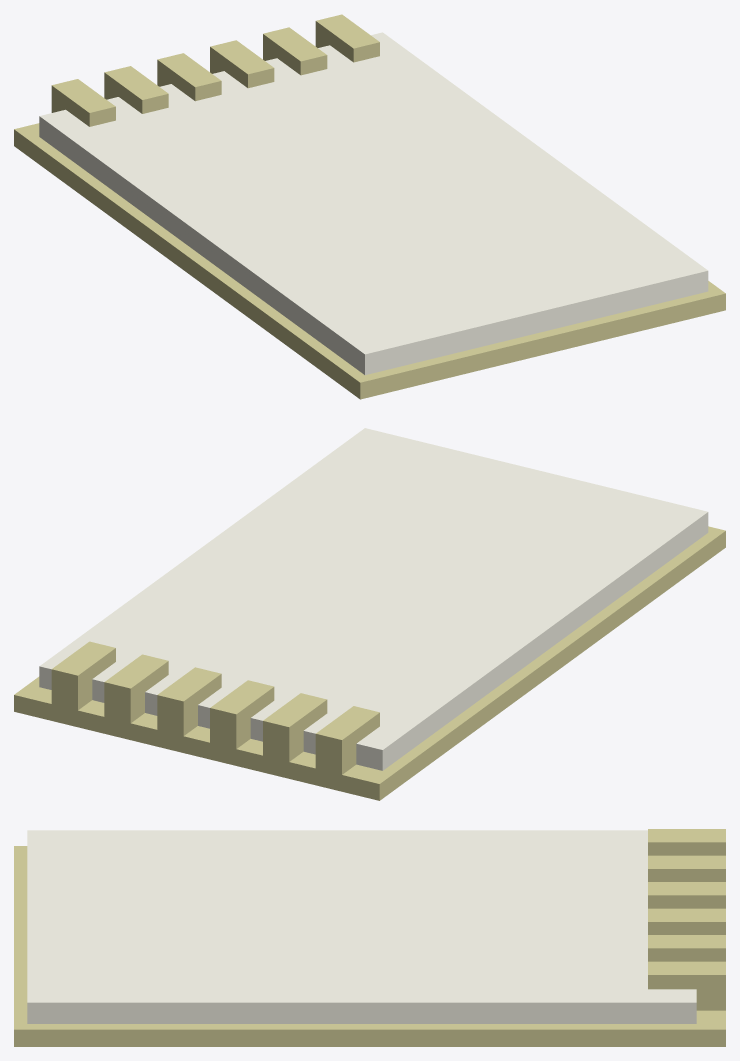
The model's file is Bloco de Notas.FBX.
3 renders of one model, top to bottom at view 1: azimuth 30°, elevation 25°; view 2: azimuth 150°, elevation 25°; view 3: azimuth 270°, elevation 25°, orthographic. The views are drawn at different scales.
Parts seen in each view (by area): view 1: Box005; view 2: Box005; view 3: Box005.
Boxes of the visible parts, x1,y1,x2,y2 form: Box005: (14,14,725,399); Box005: (14,428,725,800); Box005: (14,829,725,1046).
Bounding box in the file's own units: 95.57 × 12.9 × 157.
